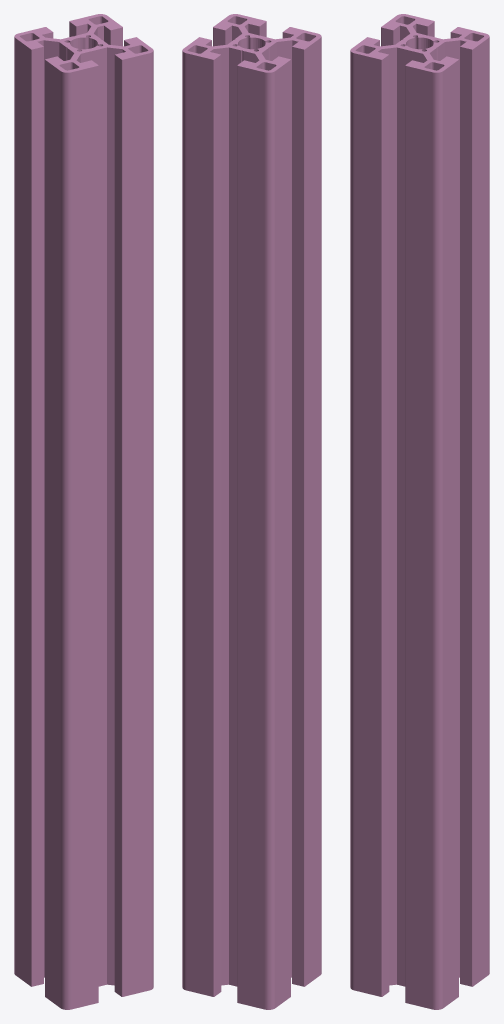
File: case-06_lib00002.glb
The picture shows the model from 3 angles, left to right: view 1: azimuth 30°, elevation 25°; view 2: azimuth 150°, elevation 25°; view 3: azimuth 330°, elevation 25°; orthographic projection.
Visible parts, largest first — view 1: lib00002; view 2: lib00002; view 3: lib00002.
Boxes of the visible parts, x1=… form: lib00002: x1=14, y1=14, x2=153, y2=1009; lib00002: x1=182, y1=14, x2=321, y2=1009; lib00002: x1=350, y1=14, x2=489, y2=1009.
Size of the model in its own units: 40 by 390 by 40.
